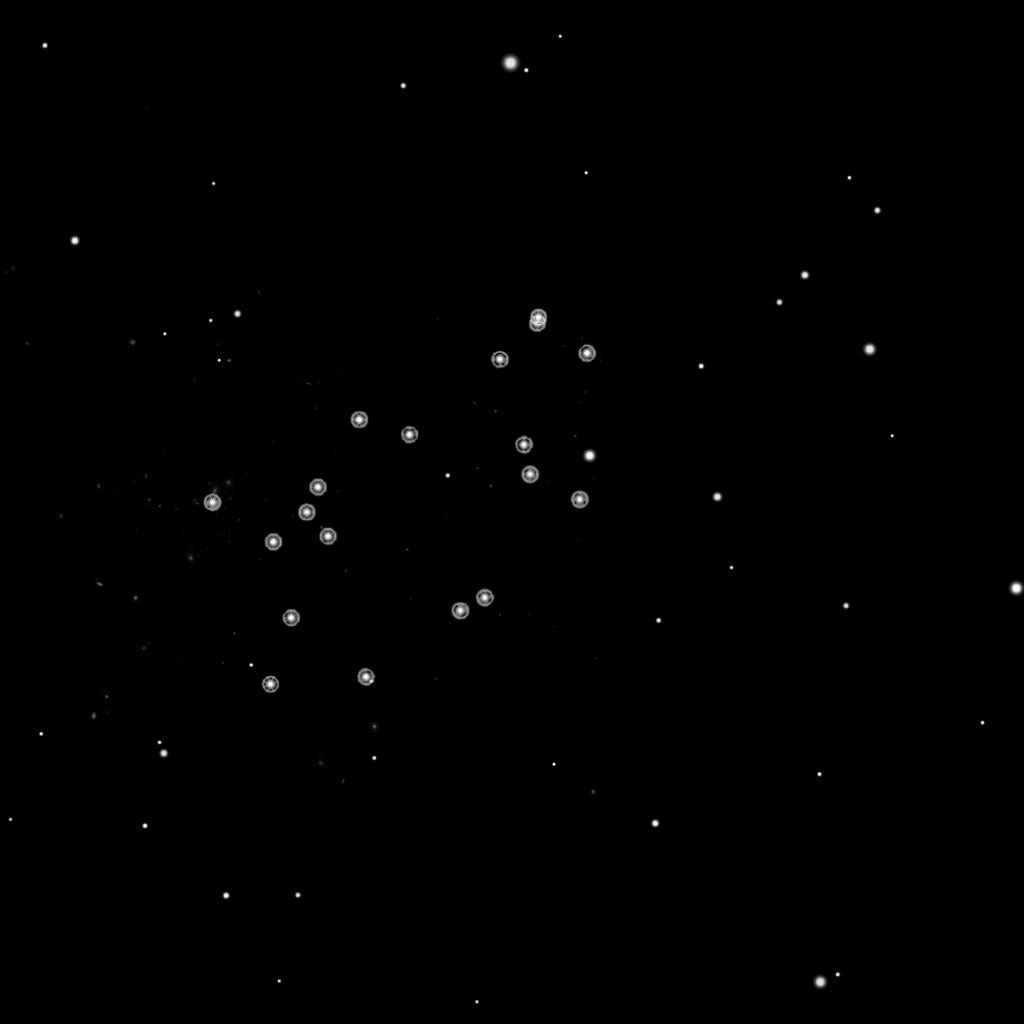canis_major: (258, 408, 424, 559)
